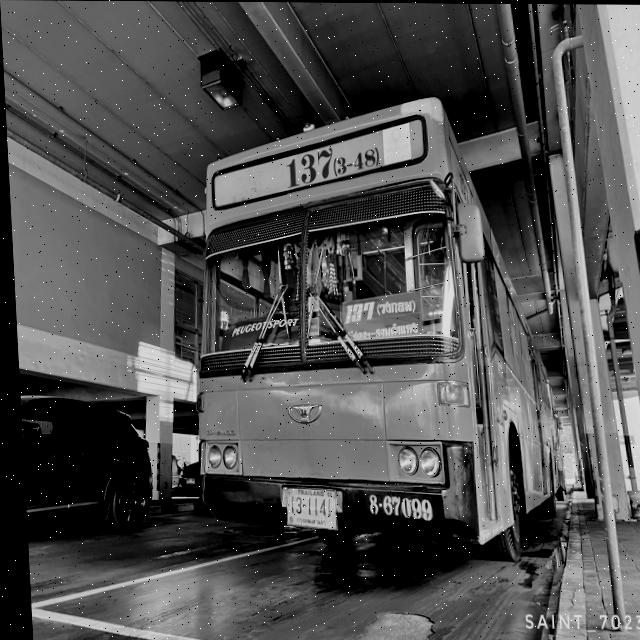BMTA-bus: (177, 86, 566, 566)
Bus Line Number: (279, 128, 383, 191)
Bus Side Number: (360, 489, 431, 524)
Destination Sign: (338, 290, 420, 341)
